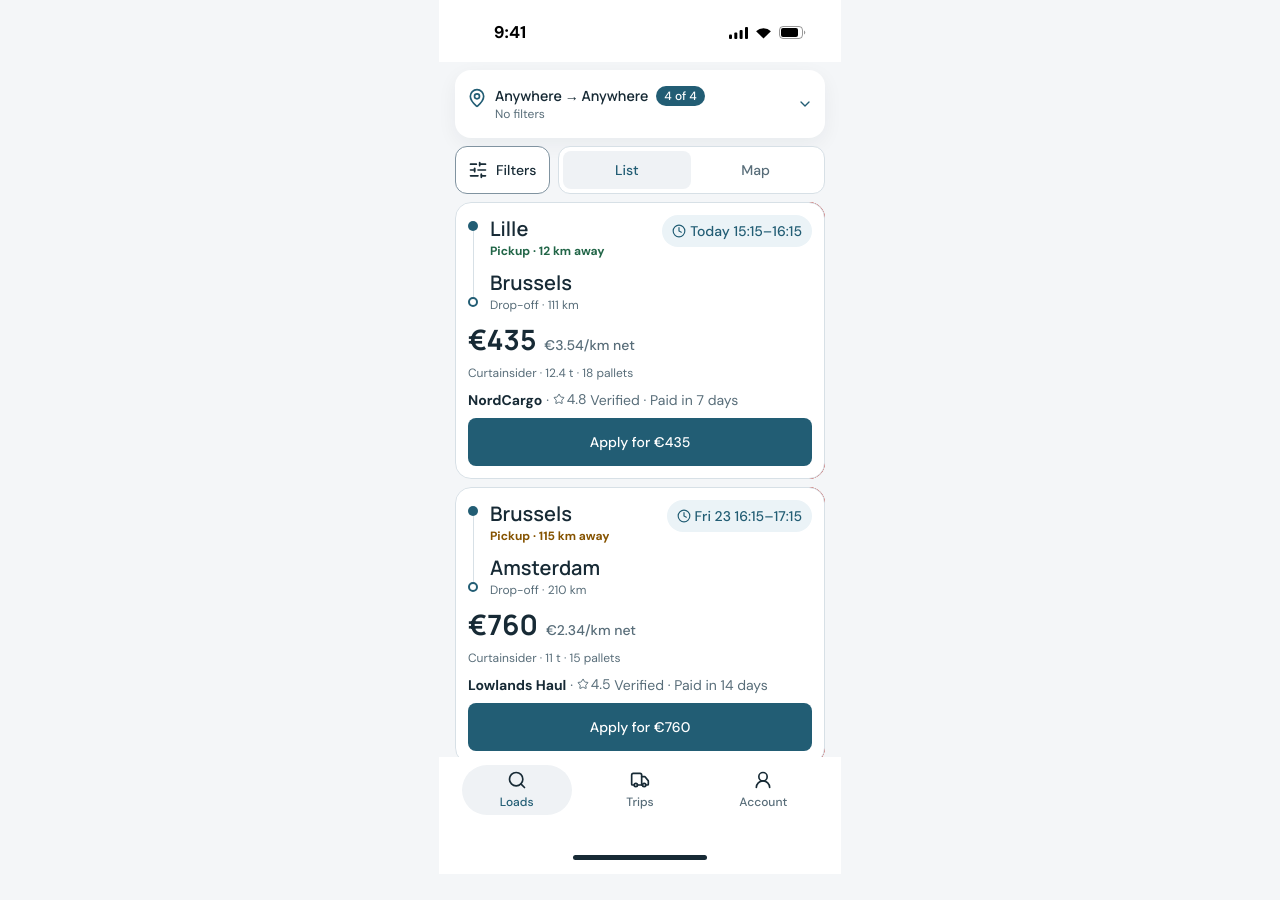
Scenario: keeps the filters count equal to the loads the feed shows
Click the button "Filters".
click(502, 170)  # box 455,146 -> 550,194
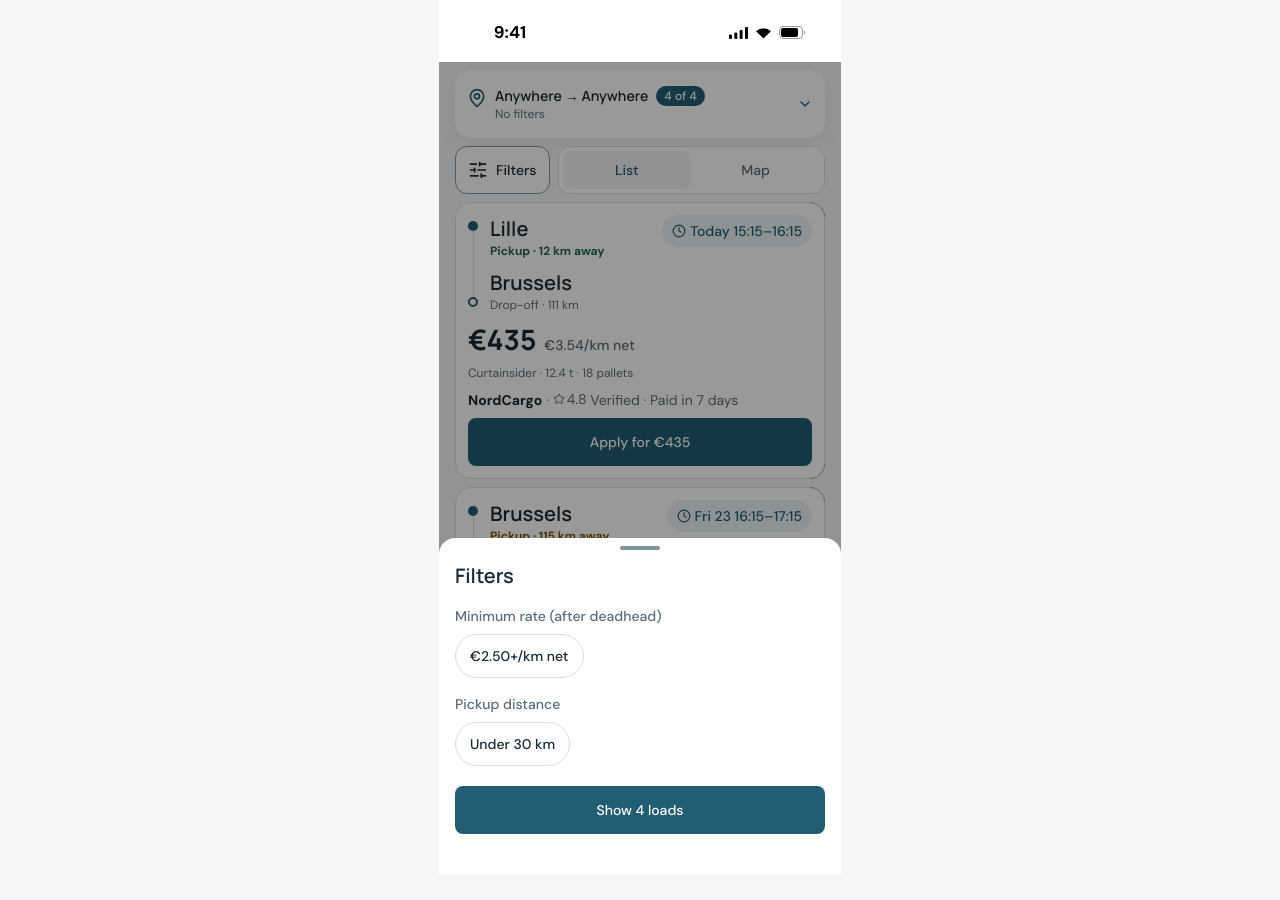
Expected: the dialog "Filters" is shown, 439,538 -> 841,874
Click the button "€2.50+/km net".
click(519, 656)  # box 455,634 -> 584,678
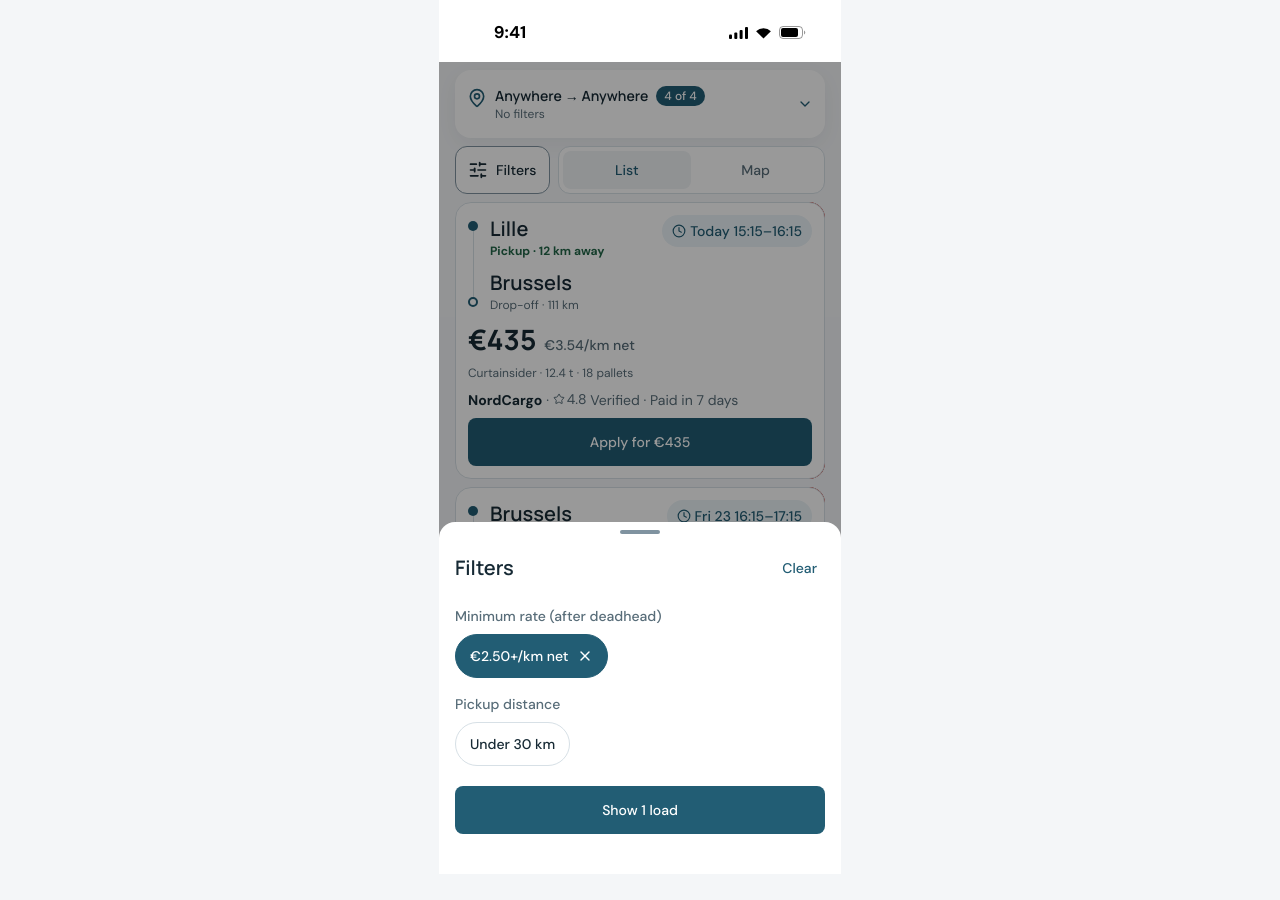
Click the button "Show 1 load".
click(640, 810)  # box 455,786 -> 825,834
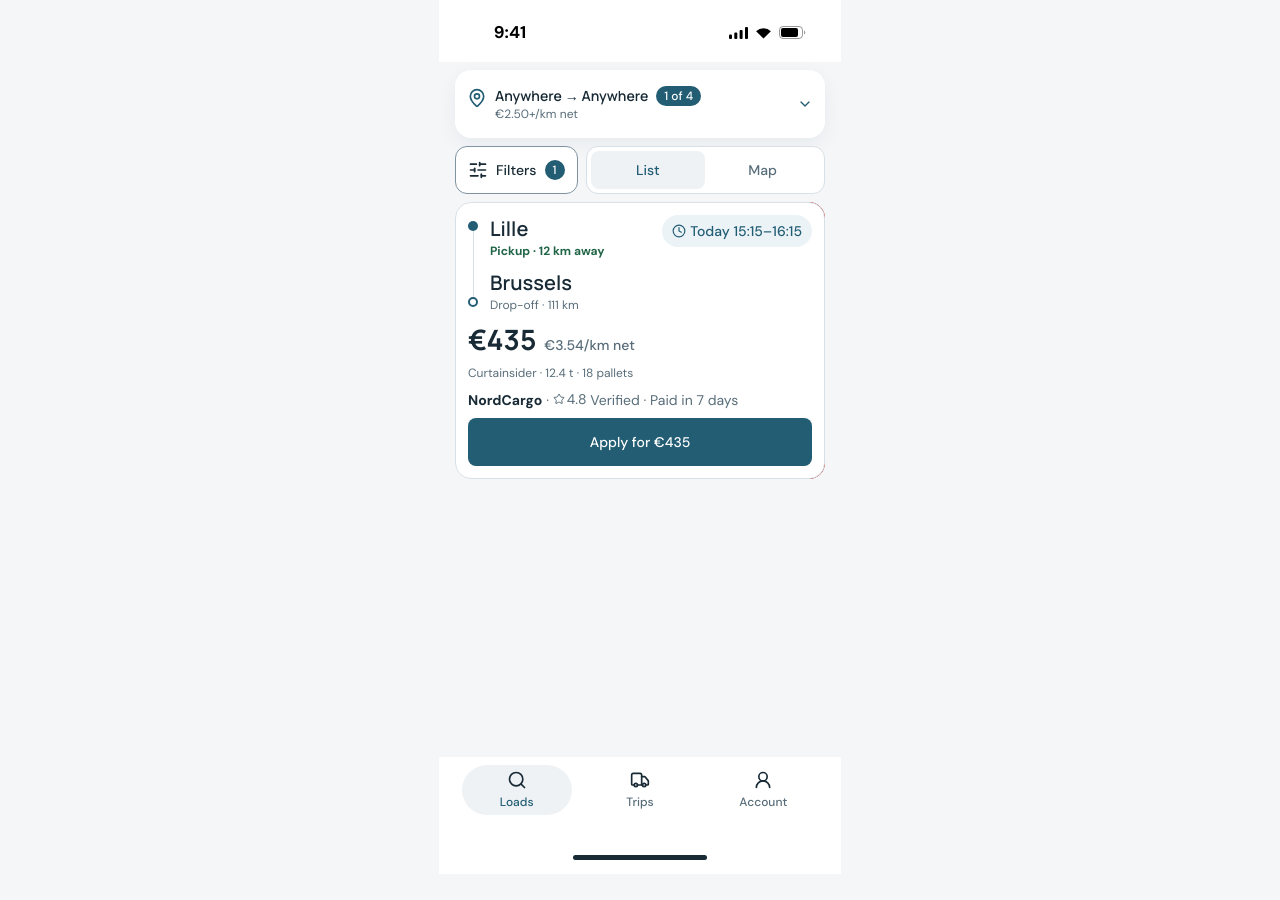
Expected: the button with aria-label "Direction: Anywhere → Anywhere, 1 of 4 loads" is shown, 455,70 -> 825,138
